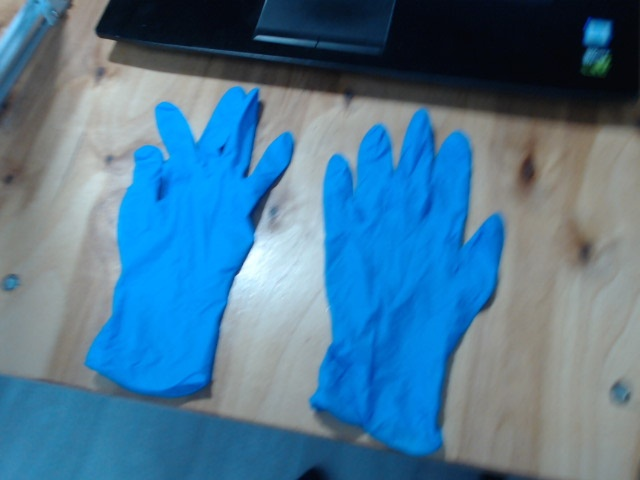medical_glove: (315, 108, 504, 460), (85, 86, 295, 399)
